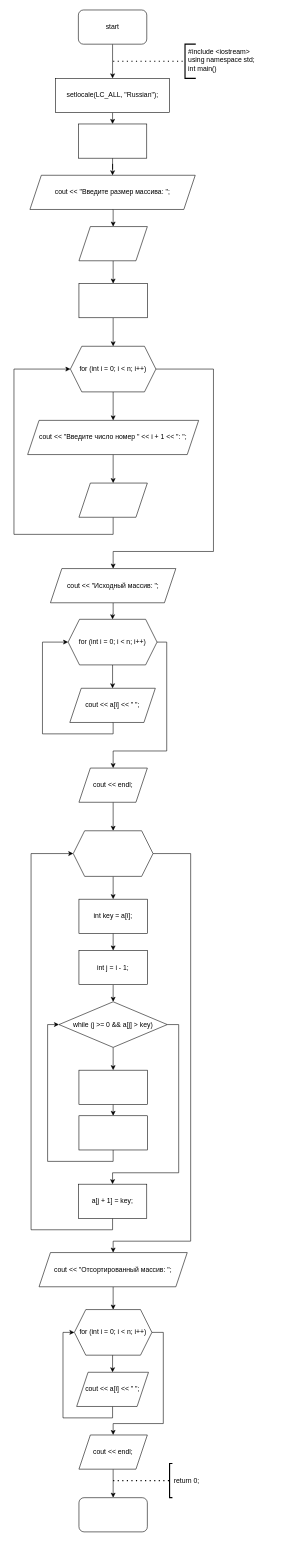
The diagram is 283 pixels wide and 1542 high, and some of its shapes have lost their labels. Here are the shapes that lost their labels. From the top down, the centre of each, then its label:
At point 112,140: "int n;".
At point 112,243: "cin >> n;".
At point 112,300: "int a[100];".
At point 112,500: "cin >> a[i];".
At point 113,853: "for (int i = 1; i < n; i++)".
At point 112,1087: "a[j + 1] = a[j];".
At point 112,1132: "j--;".
At point 112,1514: "end".
